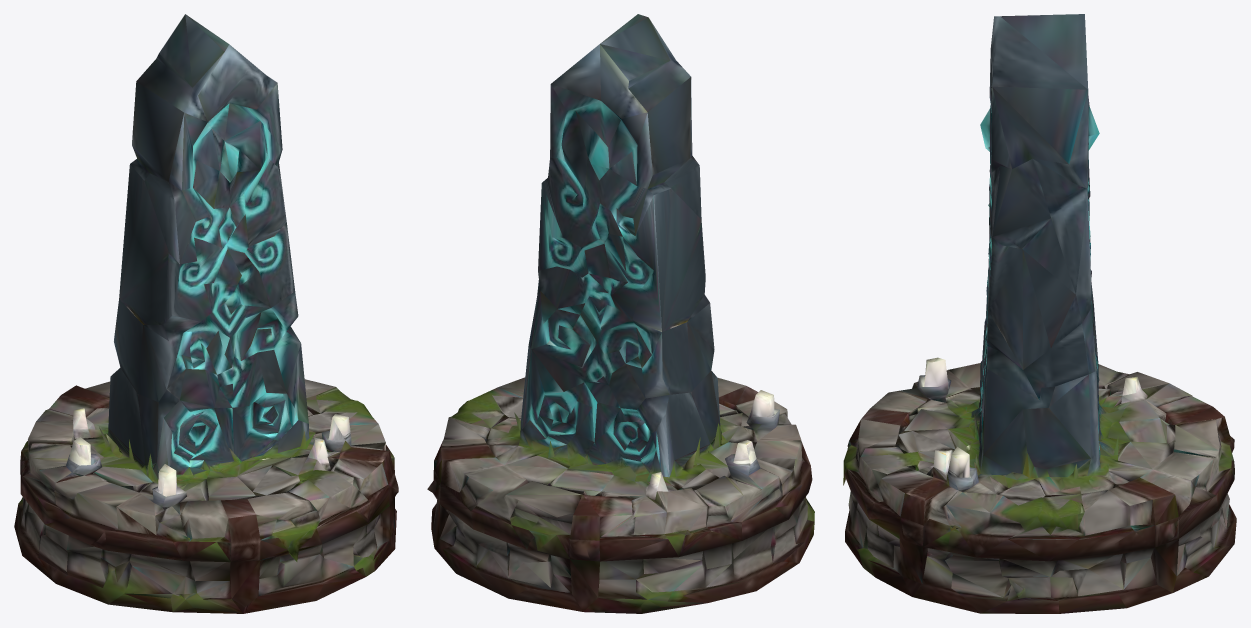
The model's file is landmark_runestone_lod1.glb.
The picture shows the model from 3 angles, left to right: view 1: azimuth 30°, elevation 25°; view 2: azimuth 150°, elevation 25°; view 3: azimuth 270°, elevation 25°; orthographic projection. The views are drawn at different scales.
Parts seen in each view (by area): view 1: Mesh_0; view 2: Mesh_0; view 3: Mesh_0.
Part boxes in pixels (bbox=[...]): Mesh_0: bbox=[14, 14, 398, 613]; Mesh_0: bbox=[427, 14, 814, 613]; Mesh_0: bbox=[843, 14, 1236, 613].
Bounding box in the file's own units: 1.3 × 1.91 × 1.31.
Materials: 1 (1 with a texture image).
